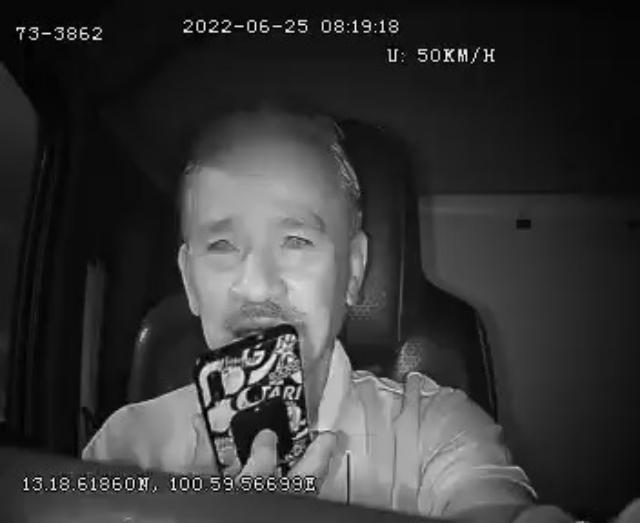PhoneUse: (194, 324, 310, 472)
SafeDriving: (195, 219, 246, 264), (275, 218, 321, 258)
